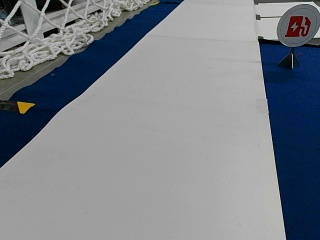battery: (275, 2, 319, 47)
